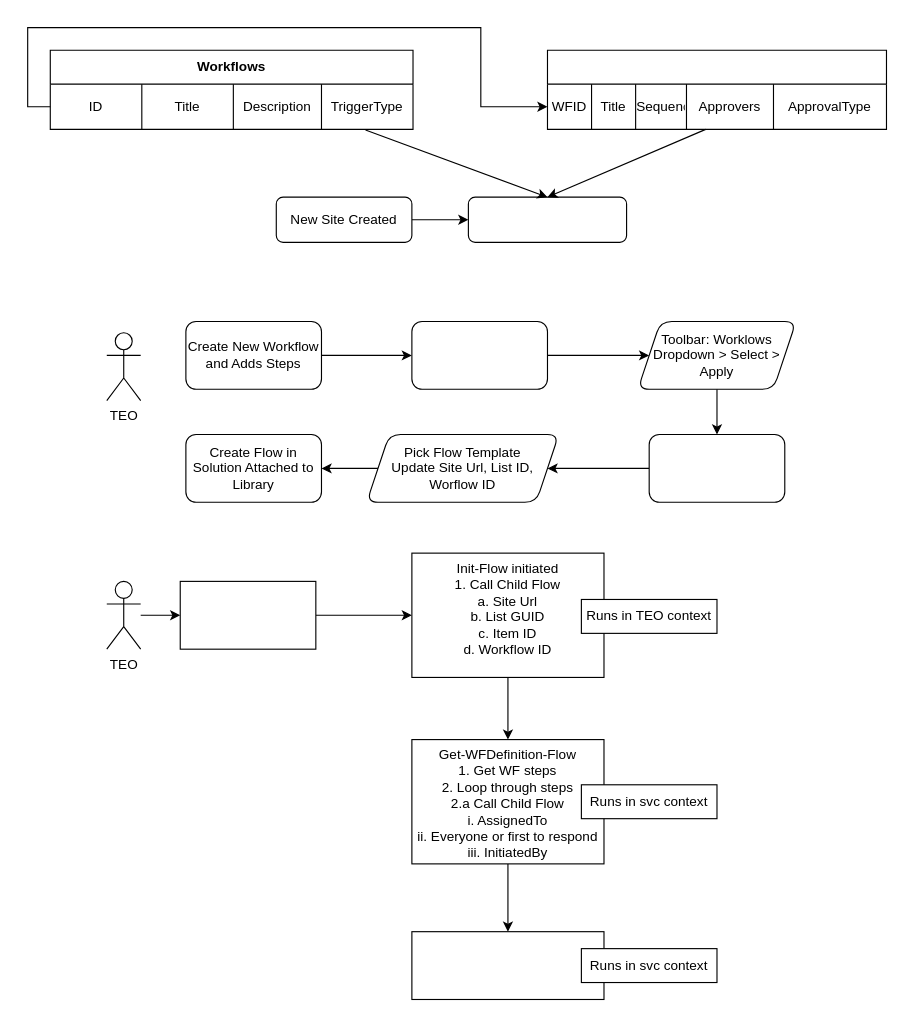
Some shapes in this 915 by 1019 pixel diagram are drawn without their labels. The shapes that lost their labels are listed below. From the top down, each one's box as (x1, y1, x2, y2) in pixels, then its label:
(546, 49, 886, 129): WorkflowSteps
(467, 196, 627, 242): Create Workflows and WorkflowSteps List
(411, 320, 547, 389): Navigate to Engagement Doc Lib
(648, 433, 785, 502): Dataverse Web API Create Workflow based on template
(179, 580, 316, 649): Adds a file. Initiates the flow (ECB or Command bar)
(411, 931, 604, 999): Send-Approval-Flow 1. Send approvals 2. Log responses
